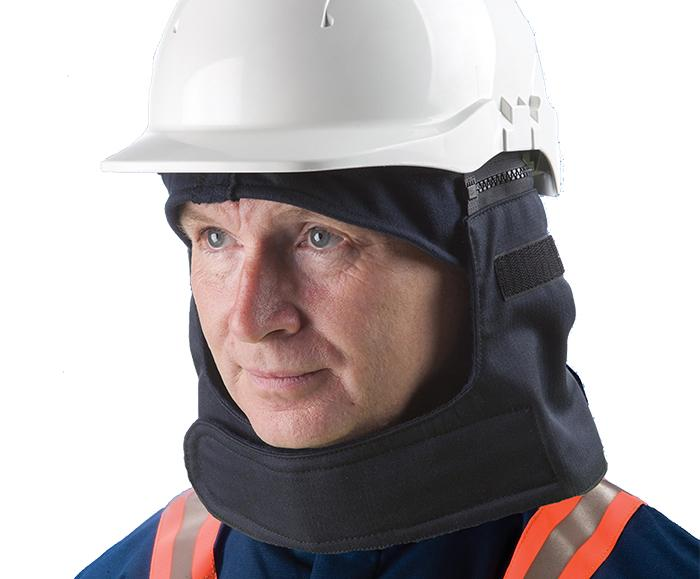helmet: (109, 1, 554, 178)
